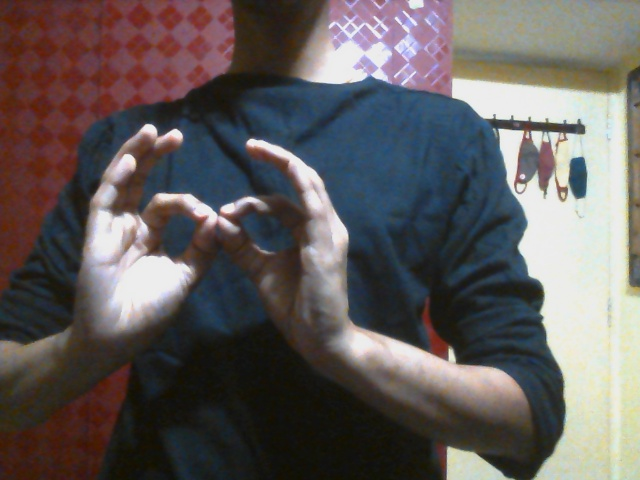B: (72, 123, 366, 371)
